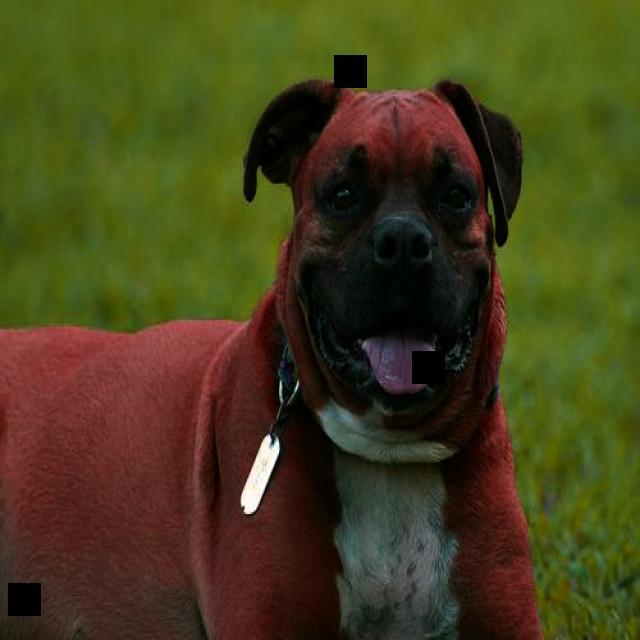adult_dog: (0, 69, 544, 640)
